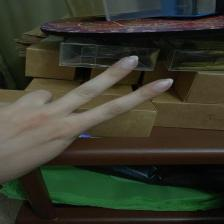two: (3, 52, 178, 168)
